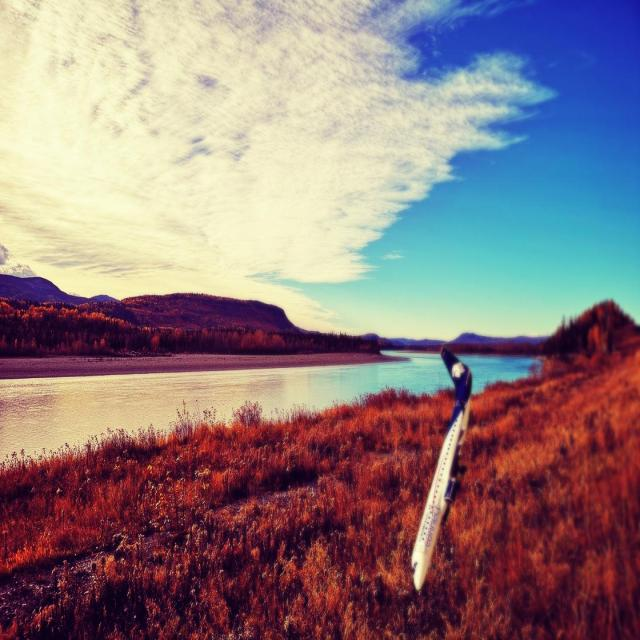airplane: (410, 344, 472, 591)
